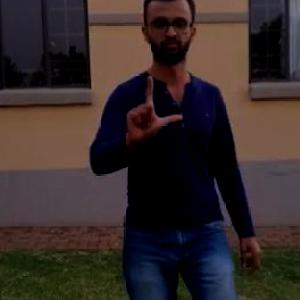land_hand: (119, 69, 193, 156)
